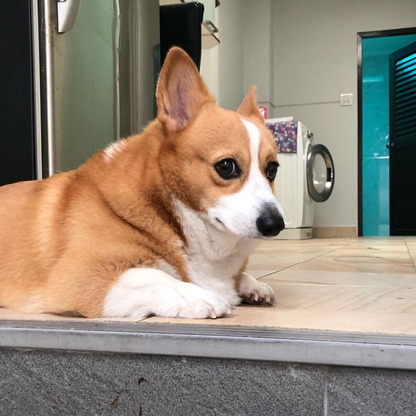Corgi: (11, 48, 318, 335)
